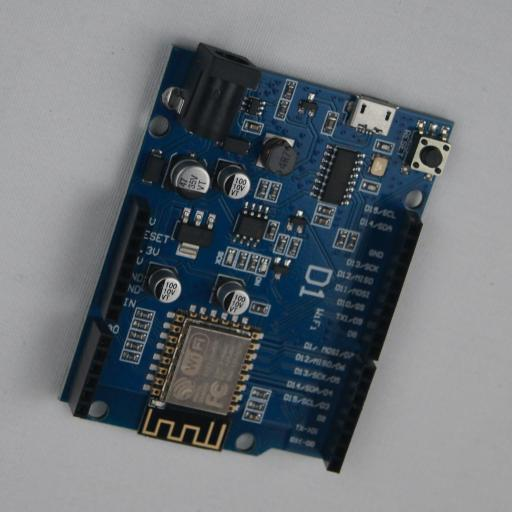Arduino Uno WiFi Shield: (59, 42, 454, 474)
